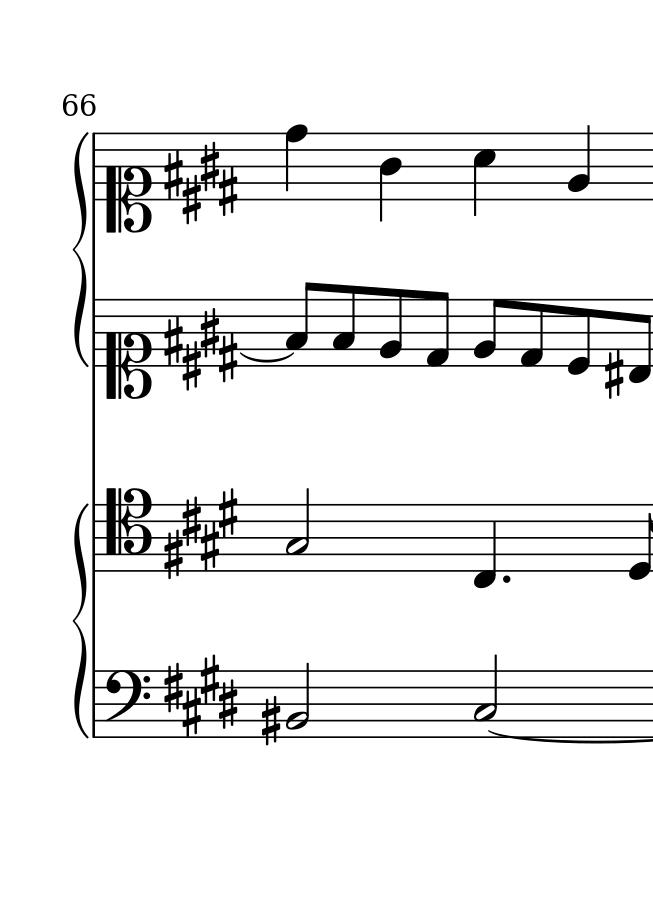2_2: (285, 487, 311, 569), (285, 661, 311, 735)
2_3: (472, 653, 500, 737)
4_2: (567, 123, 592, 201)
4_4: (378, 129, 402, 221)
4_5: (471, 132, 498, 218)
4_8: (284, 122, 308, 203)
6: (79, 92, 97, 118), (62, 91, 78, 117)
8_-1: (471, 501, 498, 592), (626, 298, 652, 384)
8_0: (565, 298, 593, 377)
8_1: (424, 289, 452, 370), (518, 297, 545, 369)
8_2: (472, 298, 504, 368), (378, 287, 404, 368)
8_3: (285, 281, 318, 368), (330, 284, 357, 368)
Brace: (72, 132, 90, 371), (72, 502, 89, 741)
E_F: (161, 656, 236, 736)
E_S: (163, 487, 240, 578), (164, 309, 242, 391), (163, 140, 239, 221)
Fclef: (103, 669, 150, 738)
Sharp: (604, 348, 625, 400), (260, 695, 281, 747)
Single_barline: (88, 299, 103, 368), (89, 502, 102, 574), (89, 671, 102, 737), (88, 134, 100, 200)
Slur: (238, 350, 296, 361)
Soprano_Cclef: (104, 299, 155, 401), (104, 133, 150, 233)
Tensor_Cclef: (104, 487, 152, 571)
dot: (501, 572, 512, 584)
